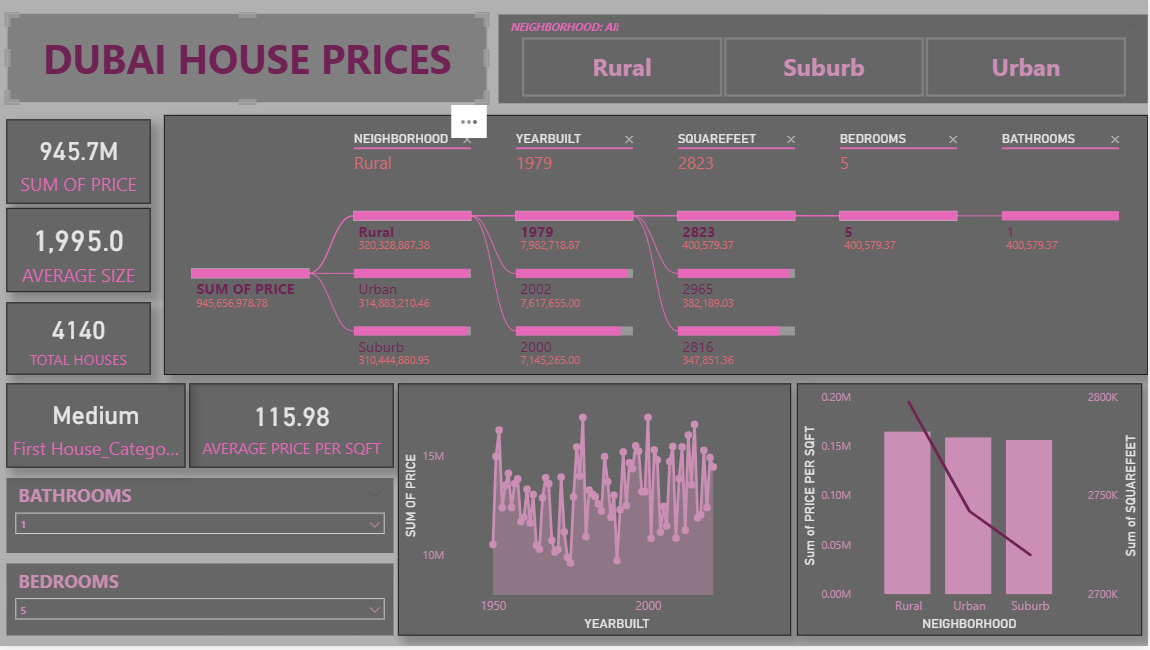

The dashboard page shown, as its layout file describes it:
{"tool":"powerbi","page":{"name":"Page 1","canvas":[1280,720],"ordinal":0},"visuals":[{"type":"shape","box":[11.7,16.7,535,100],"z":0},{"type":"card","fields":{"Values":["cleaned_data.SUM OF PRICE"]},"box":[11.7,135,160,93.3],"z":1000},{"type":"card","fields":{"Values":["cleaned_data.AVERAGE PRICE PER SQFT"]},"box":[215,428.3,226.7,93.3],"z":2000},{"type":"card","fields":{"Values":["cleaned_data.AVERAGE SIZE"]},"box":[11.7,233.3,160,93.3],"z":3000},{"type":"card","fields":{"Values":["cleaned_data.TOTAL HOUSES"]},"box":[11.7,338.3,160,80],"z":4000},{"type":"slicer","fields":{"Values":["cleaned_data.NEIGHBORHOOD"]},"box":[558.6,18.6,721.4,98.6],"z":5000},{"type":"slicer","fields":{"Values":["cleaned_data.BATHROOMS"]},"box":[11.7,533.3,430,83.3],"z":6000},{"type":"slicer","fields":{"Values":["cleaned_data.BEDROOMS"]},"box":[11.7,628.3,430,80],"z":7000},{"type":"card","fields":{"Values":["Min(cleaned_data.House_Category)"]},"box":[11.7,428.3,198.3,93.3],"z":8000},{"type":"lineChart","fields":{"Y":["cleaned_data.SUM OF PRICE"],"Category":["cleaned_data.YEARBUILT"]},"box":[446.7,428.3,436.7,280],"z":9000},{"type":"decompositionTreeVisual","fields":{"Analyze":["cleaned_data.SUM OF PRICE"],"ExplainBy":["cleaned_data.NEIGHBORHOOD","cleaned_data.YEARBUILT","cleaned_data.SQUAREFEET","cleaned_data.BEDROOMS","cleaned_data.BATHROOMS"]},"box":[186.7,130,1093.3,288.3],"z":10000},{"type":"lineStackedColumnComboChart","fields":{"Category":["cleaned_data.NEIGHBORHOOD"],"Y2":["Sum(cleaned_data.SQUAREFEET)"],"Y":["Sum(cleaned_data.PRICE PER SQFT)"]},"box":[889.2,428.3,383.3,280],"z":11000}]}

Visuals, with their boxes in screenshot pixels (x1, y1, x2, y2), scaled from the page's 1280x720 canvas onto the 1150x650 screenshot:
shape: select_region(11, 15, 491, 105)
card - cleaned_data.SUM OF PRICE: select_region(11, 122, 154, 206)
card - cleaned_data.AVERAGE PRICE PER SQFT: select_region(193, 387, 397, 471)
card - cleaned_data.AVERAGE SIZE: select_region(11, 211, 154, 295)
card - cleaned_data.TOTAL HOUSES: select_region(11, 305, 154, 378)
slicer - cleaned_data.NEIGHBORHOOD: select_region(502, 17, 1149, 106)
slicer - cleaned_data.BATHROOMS: select_region(11, 481, 397, 557)
slicer - cleaned_data.BEDROOMS: select_region(11, 567, 397, 639)
card - Min(cleaned_data.House_Category): select_region(11, 387, 189, 471)
lineChart - cleaned_data.SUM OF PRICE x cleaned_data.YEARBUILT: select_region(401, 387, 794, 639)
decompositionTreeVisual - cleaned_data.SUM OF PRICE x cleaned_data.NEIGHBORHOOD: select_region(168, 117, 1149, 378)
lineStackedColumnComboChart - cleaned_data.NEIGHBORHOOD x Sum(cleaned_data.SQUAREFEET): select_region(799, 387, 1143, 639)
